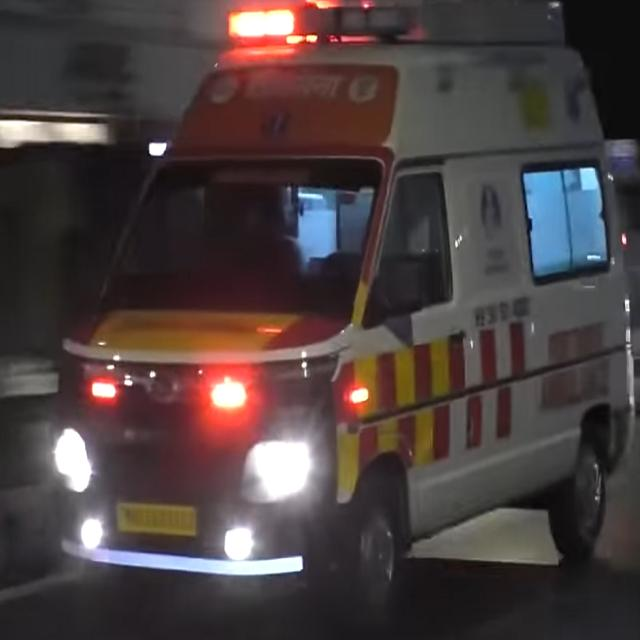ambulance: (47, 0, 635, 611)
